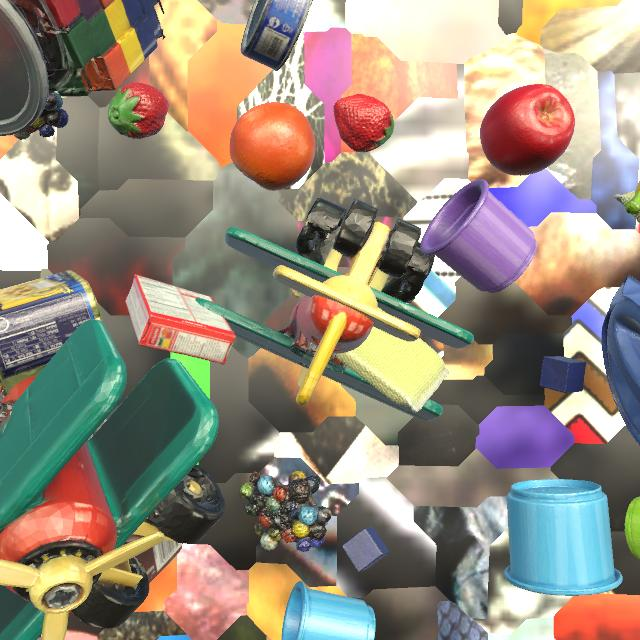ycb_007_tuna_fish_can: (241, 0, 313, 72)
ycb_008_pudding_box: (69, 534, 183, 614)
ycb_009_gelatin_box: (125, 274, 236, 365)
ycb_010_potted_meat_can: (0, 270, 103, 383), (0, 365, 46, 395)
ycb_011_banana: (625, 181, 640, 214)
ycb_012_strawberry: (334, 94, 394, 152), (108, 82, 169, 139)
ycb_013_apple: (480, 84, 575, 176)
ycb_017_orange: (229, 102, 316, 191)
